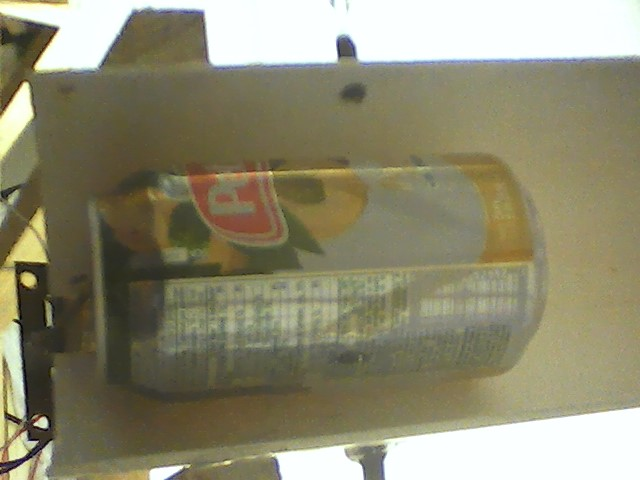lata: (84, 151, 557, 403)
